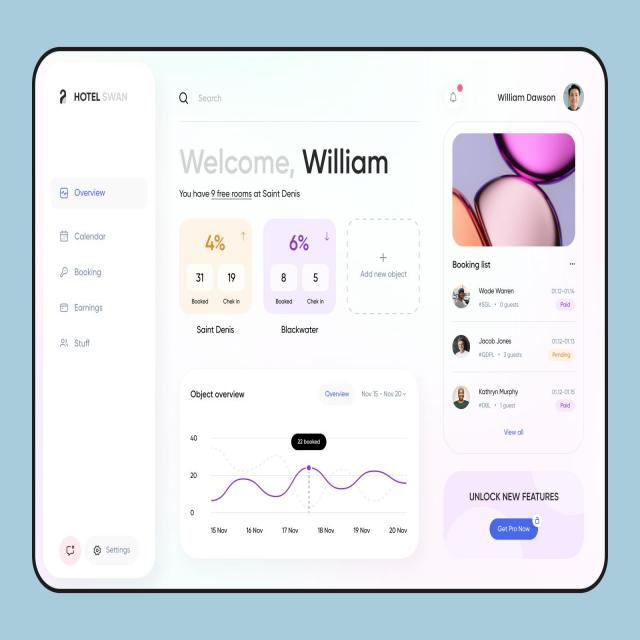button: (84, 534, 140, 566), (489, 518, 539, 540)
input: (175, 84, 268, 112)
